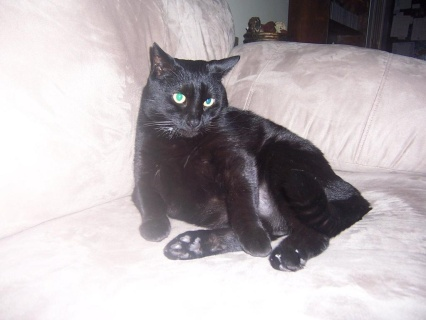Cat: (125, 40, 372, 272)
